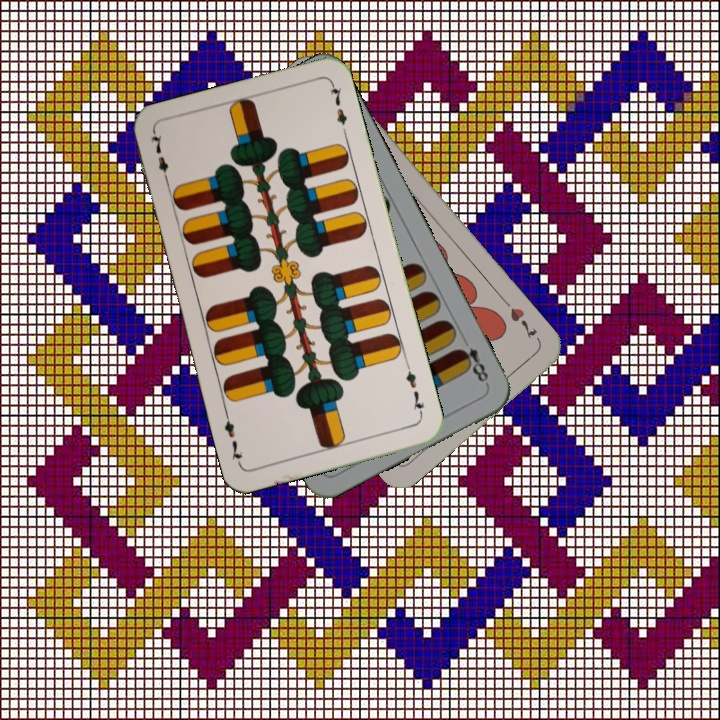E7: (401, 361, 427, 419), (146, 129, 172, 187)
E8: (453, 333, 491, 388)
H7: (499, 296, 540, 341)
